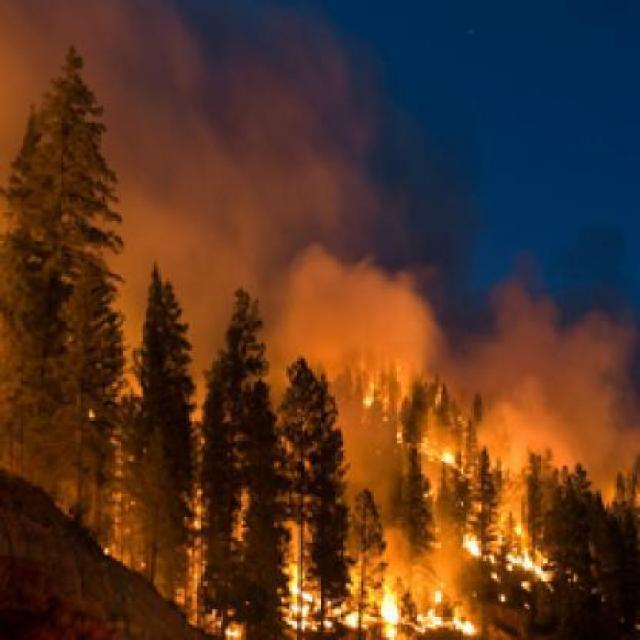Fire: (258, 548, 497, 638), (412, 500, 594, 611)
